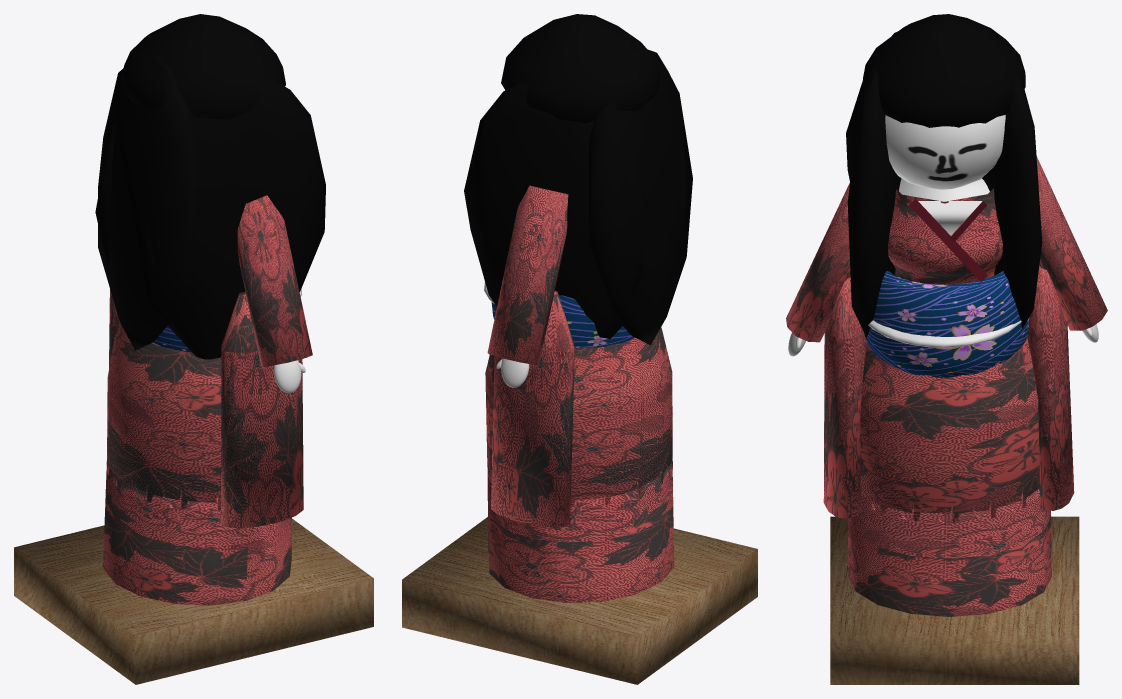
Rendered from nihonninngyou.fbx.
The picture shows the model from 3 angles, left to right: view 1: azimuth 30°, elevation 25°; view 2: azimuth 150°, elevation 25°; view 3: azimuth 270°, elevation 25°; orthographic projection. The views are drawn at different scales.
Parts seen in each view (by area): view 1: ベジエカーブ.004, ベジエカーブ, 立方体, 円柱.004, ベジエカーブ.001, 円柱.002, 球.001; view 2: ベジエカーブ.004, ベジエカーブ, 立方体, 円柱.003, ベジエカーブ.001, 円柱.001, obi, 球.003; view 3: ベジエカーブ, 立方体, ベジエカーブ.004, ベジエカーブ.001, obi, 円柱.004, 円柱.003, 球, 円柱.001, 円柱.002, トーラス.001, 円柱.005 (+2 smaller).
Boxes of the visible parts, box(x1,y1,x2,y2) form: ベジエカーブ.004: box(95, 55, 325, 359); ベジエカーブ: box(103, 324, 291, 605); 立方体: box(14, 518, 373, 684); 円柱.004: box(221, 292, 303, 528); ベジエカーブ.001: box(120, 14, 285, 119); 円柱.002: box(237, 195, 312, 366); 球.001: box(273, 360, 301, 393); ベジエカーブ.004: box(464, 48, 692, 345); ベジエカーブ: box(485, 327, 674, 602); 立方体: box(402, 517, 757, 684); 円柱.003: box(491, 291, 574, 527); ベジエカーブ.001: box(501, 14, 659, 123); 円柱.001: box(487, 185, 568, 364); obi: box(491, 295, 634, 348); 球.003: box(501, 358, 529, 387); ベジエカーブ: box(847, 188, 1051, 616); 立方体: box(830, 516, 1079, 684); ベジエカーブ.004: box(846, 31, 1042, 337); ベジエカーブ.001: box(863, 14, 1025, 127); obi: box(866, 271, 1029, 377); 円柱.004: box(823, 277, 866, 518); 円柱.003: box(1027, 265, 1074, 510); 球: box(885, 115, 1005, 189); 円柱.001: box(1036, 156, 1107, 330); 円柱.002: box(786, 182, 850, 342); トーラス.001: box(868, 320, 1021, 347); 円柱.005: box(899, 178, 989, 200).
Bounding box in the file's own units: 10.56 × 25.29 × 12.09.
Materials: 9 (5 with a texture image).
